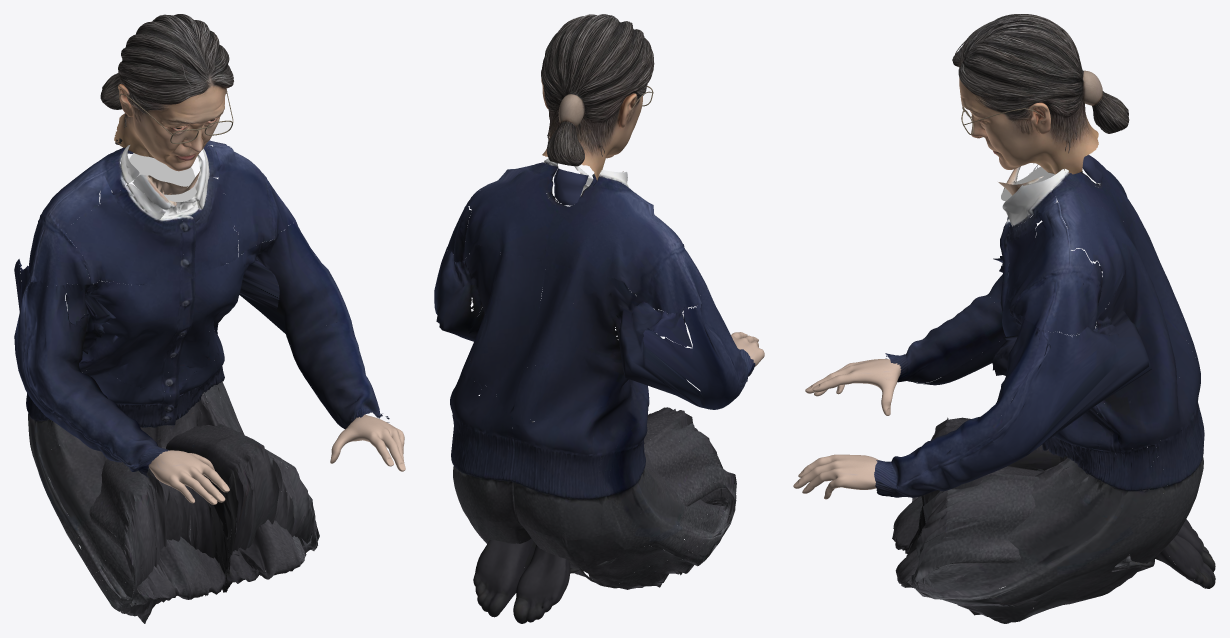
Rendered from kikite_seiza.glb.
3 renders of one model, left to right at view 1: azimuth 30°, elevation 25°; view 2: azimuth 150°, elevation 25°; view 3: azimuth 270°, elevation 25°, orthographic. The views are drawn at different scales.
Visible parts, largest first — view 1: kikite_body, kikite_head, kikite_hands; view 2: kikite_body, kikite_head, kikite_hands; view 3: kikite_body, kikite_head, kikite_hands.
Part boxes in pixels (x1,y1,x2,y2): kikite_body: [14, 138, 389, 623]; kikite_head: [100, 14, 233, 171]; kikite_hands: [148, 414, 405, 504]; kikite_body: [434, 158, 755, 623]; kikite_head: [541, 14, 654, 180]; kikite_hands: [731, 332, 764, 366]; kikite_body: [874, 154, 1215, 623]; kikite_head: [952, 14, 1129, 174]; kikite_hands: [793, 359, 901, 499].
Size of the model in its own units: 0.5699 by 1.04 by 0.6631.
Materials: 6 (3 with a texture image).
